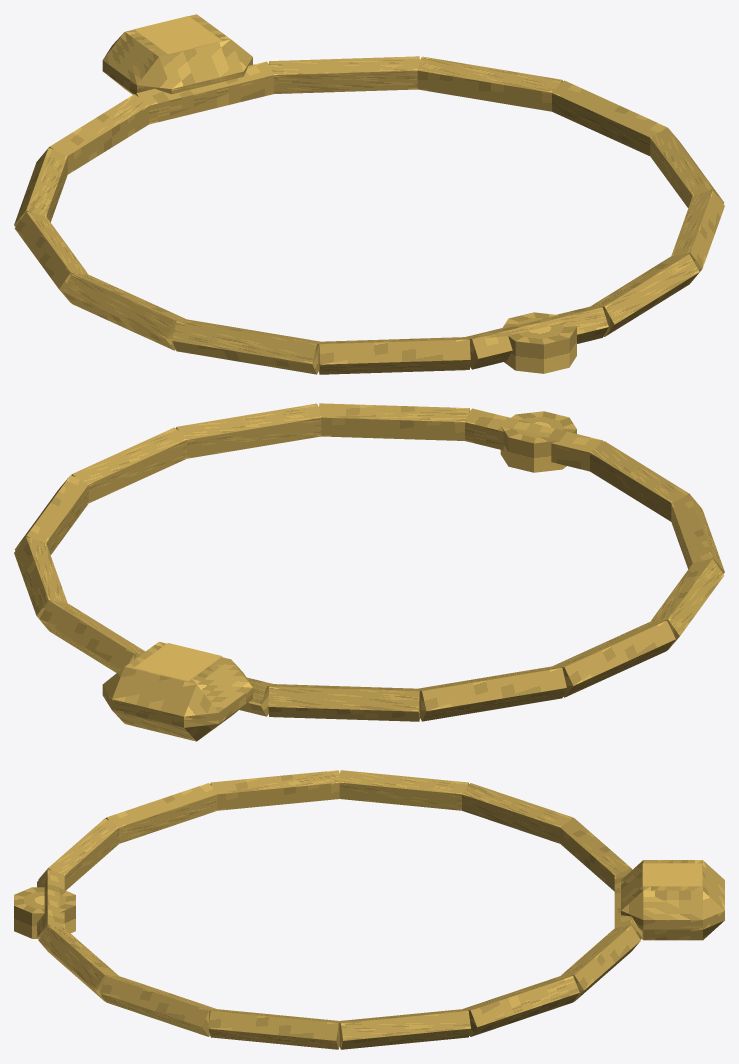
File: gold_locket.glb
3 renders of one model, top to bottom at view 1: azimuth 30°, elevation 25°; view 2: azimuth 150°, elevation 25°; view 3: azimuth 270°, elevation 25°, orthographic. The views are drawn at different scales.
Visible parts, largest first — view 1: block_hinged locket, block_necklace chain4, block_necklace chain5, block_necklace chain11, block_necklace chain12, block_necklace chain6, block_necklace chain13, block_necklace chain10, block_necklace chain2, block_necklace chain9, block_clasp, block_necklace chain3 (+5 smaller); view 2: block_hinged locket, block_necklace chain9, block_necklace chain8, block_necklace chain2, block_necklace chain1, block_necklace chain7, block_necklace chain0, block_necklace chain11, block_necklace chain4, block_necklace chain3, block_clasp, block_necklace chain6 (+5 smaller); view 3: block_hinged locket, block_necklace chain13, block_necklace chain0, block_necklace chain7, block_necklace chain6, block_necklace chain12, block_necklace chain1, block_necklace chain5, block_necklace chain8, block_necklace chain11, block_necklace chain2, block_necklace chain4 (+5 smaller).
Boxes of the visible parts, <box> form: block_hinged locket: <box>102,14,252,94</box>; block_necklace chain4: <box>319,337,470,374</box>; block_necklace chain5: <box>172,319,320,374</box>; block_necklace chain11: <box>269,56,419,93</box>; block_necklace chain12: <box>417,56,562,111</box>; block_necklace chain6: <box>63,273,185,350</box>; block_necklace chain13: <box>552,80,667,155</box>; block_necklace chain10: <box>135,61,273,124</box>; block_necklace chain2: <box>590,254,699,336</box>; block_necklace chain9: <box>49,94,148,174</box>; block_clasp: <box>502,312,576,373</box>; block_necklace chain3: <box>465,306,608,369</box>; block_hinged locket: <box>102,642,252,741</box>; block_necklace chain9: <box>268,684,419,721</box>; block_necklace chain8: <box>418,666,566,721</box>; block_necklace chain2: <box>319,403,469,440</box>; block_necklace chain1: <box>176,403,321,458</box>; block_necklace chain7: <box>553,620,675,697</box>; block_necklace chain0: <box>71,427,186,502</box>; block_necklace chain11: <box>39,601,145,672</box>; block_necklace chain4: <box>590,441,689,521</box>; block_necklace chain3: <box>465,408,603,471</box>; block_clasp: <box>500,411,576,472</box>; block_necklace chain6: <box>650,558,724,649</box>; block_hinged locket: <box>621,860,724,940</box>; block_necklace chain13: <box>339,1009,470,1049</box>; block_necklace chain0: <box>208,1009,339,1049</box>; block_necklace chain7: <box>339,770,468,810</box>; block_necklace chain6: <box>210,770,339,810</box>; block_necklace chain12: <box>462,975,579,1036</box>; block_necklace chain1: <box>99,975,216,1036</box>; block_necklace chain5: <box>105,783,217,843</box>; block_necklace chain8: <box>462,783,573,843</box>; block_necklace chain11: <box>561,925,640,1001</box>; block_necklace chain2: <box>38,925,118,1001</box>; block_necklace chain4: <box>38,818,119,890</box>.
Size of the model in its own units: 0.0879 by 0.00799 by 0.1009.
Materials: 1 (1 with a texture image).
